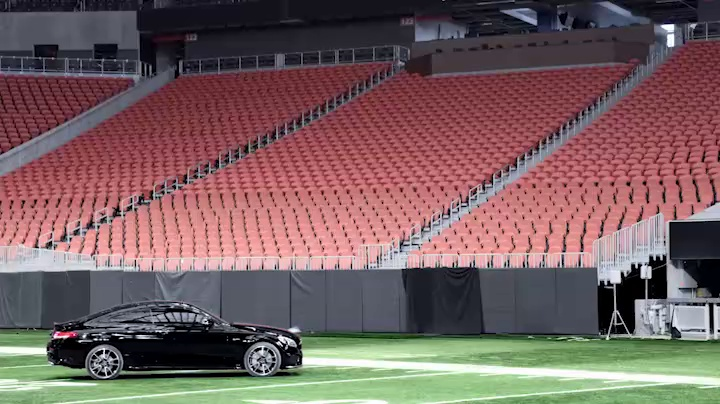amg: (46, 301, 305, 380)
